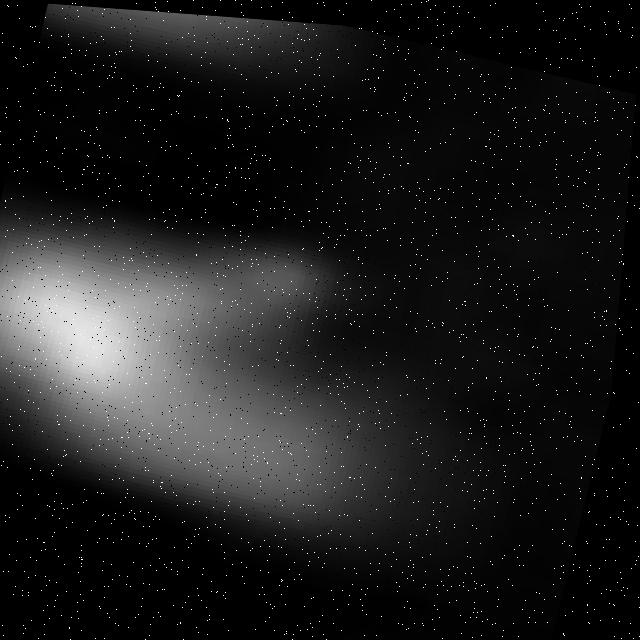person: (1, 166, 564, 556), (39, 4, 371, 94)
